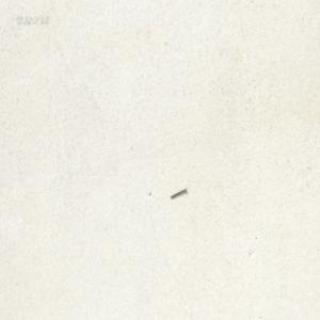Bolttrack_idkeyframe: (169, 185, 185, 198)
